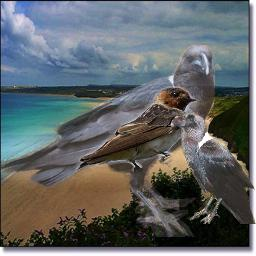Crow: (1, 45, 215, 237), (170, 111, 256, 224)
Swallow: (73, 85, 197, 175)
